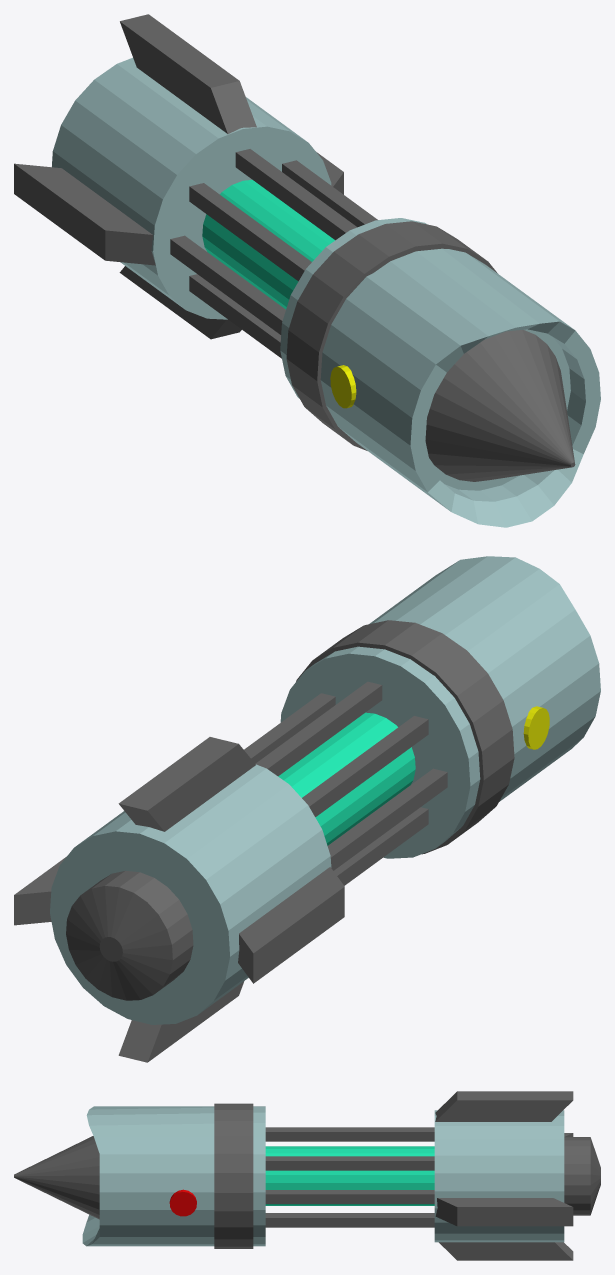
The model's file is missile.glb.
3 views of the same model, one above another, from view 1: azimuth 30°, elevation 25°; view 2: azimuth 150°, elevation 25°; view 3: azimuth 270°, elevation 25° (orthographic). The views are drawn at different scales.
Visible parts, largest first — view 1: Cylinder.007; view 2: Cylinder.007; view 3: Cylinder.007.
Part boxes in pixels (x1,y1,x2,y2): Cylinder.007: [14, 14, 600, 527]; Cylinder.007: [14, 556, 600, 1062]; Cylinder.007: [14, 1091, 600, 1260].
Size of the model in its own units: 1.65 by 1.66 by 5.51.
